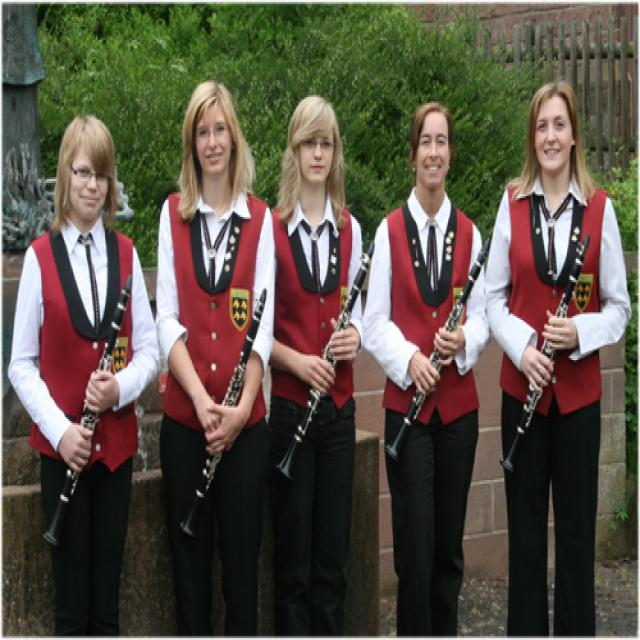clarinet: (40, 271, 134, 554), (384, 229, 494, 464), (274, 237, 376, 482), (174, 286, 268, 546), (498, 230, 592, 480)
